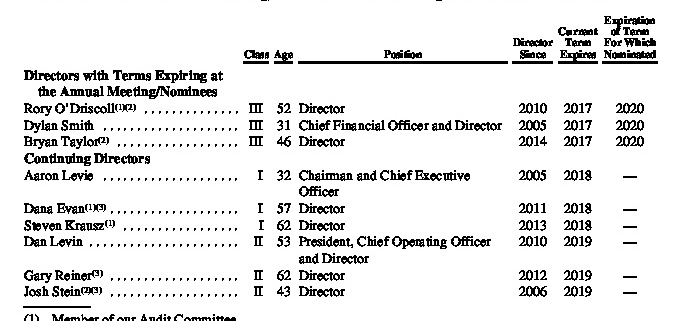table: (0, 0, 694, 321)
